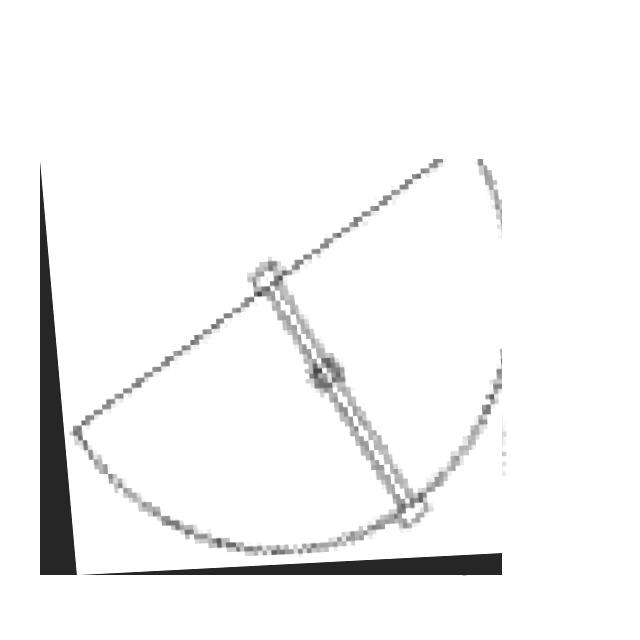door: (40, 159, 502, 575)
